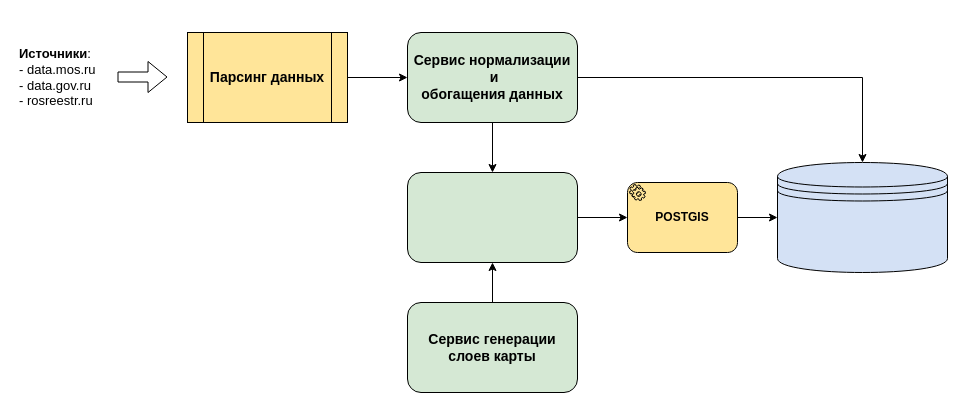
Image size: 965x410. Some labels were removed from this diagram. The box of each missing label's shape, as (x1, y1, x2, y2) in pixels:
Postgres: (776, 162, 948, 272)
Сервис расчета: (406, 172, 578, 262)
